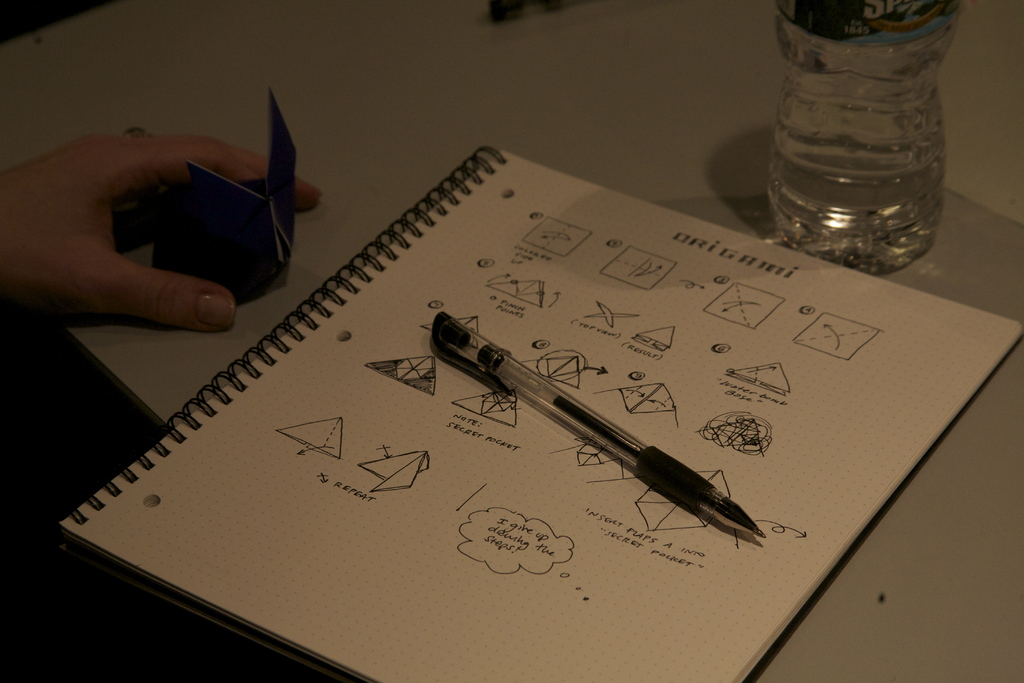Pen: (413, 322, 774, 542)
